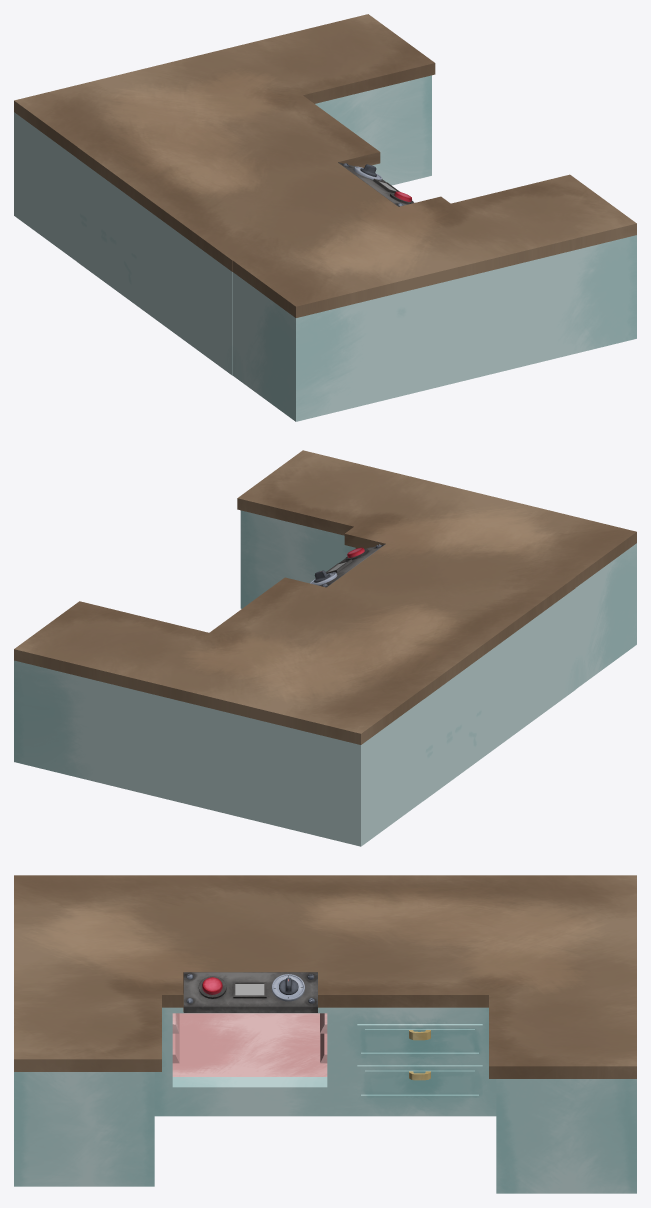
The model's file is CounterAndOvenPanelModel.fbx.
3 views of the same model, one above another, from view 1: azimuth 30°, elevation 25°; view 2: azimuth 150°, elevation 25°; view 3: azimuth 270°, elevation 25° (orthographic). The views are drawn at different scales.
Parts seen in each view (by area): view 1: polySurface10, pCylinder15; view 2: polySurface10, pCylinder15; view 3: polySurface10, pCylinder15, OvenKnob_model:OvenKnobStaticBit.
Boxes of the visible parts, left/top/right/bottom form: polySurface10: left=14, top=14, right=636, bottom=421; pCylinder15: left=338, top=162, right=414, bottom=206; polySurface10: left=14, top=450, right=636, bottom=846; pCylinder15: left=319, top=544, right=385, bottom=587; polySurface10: left=14, top=875, right=636, bottom=1193; pCylinder15: left=183, top=972, right=317, bottom=1012; OvenKnob_model:OvenKnobStaticBit: left=271, top=974, right=304, bottom=1001.
Bounding box in the file's own units: 73 × 23.29 × 101.
